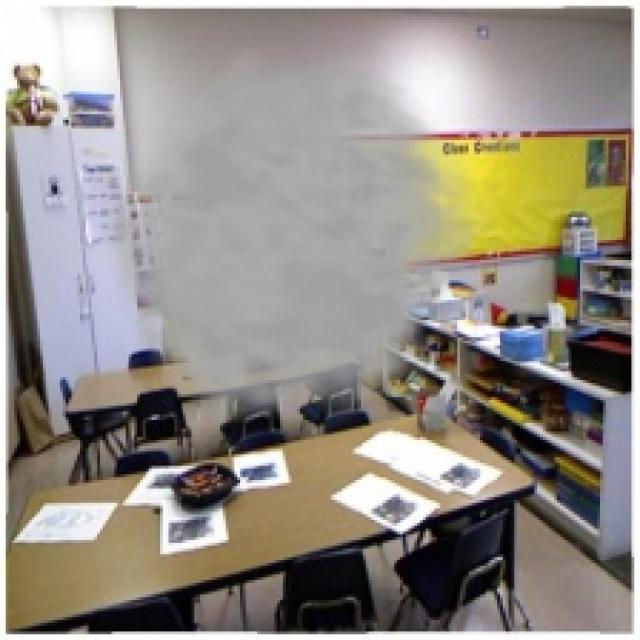smoke: (92, 49, 497, 440)
